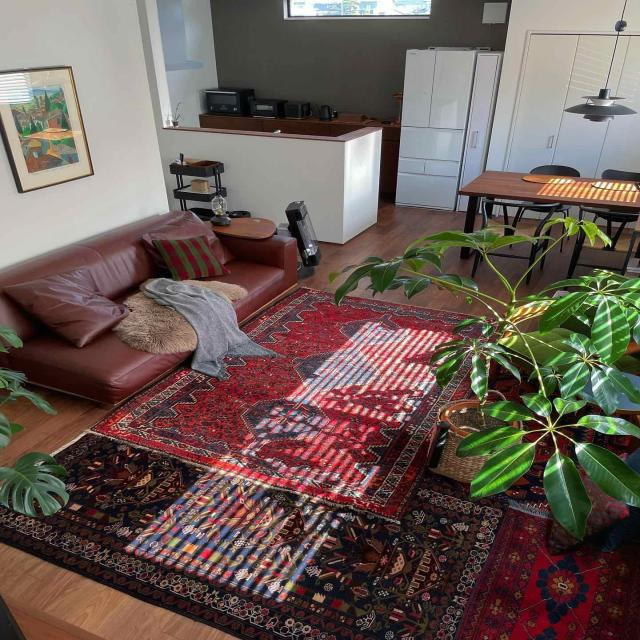vintage chair: (477, 200, 549, 293)
vintage desk: (464, 169, 640, 273)
vintage sofa: (7, 205, 302, 412)
